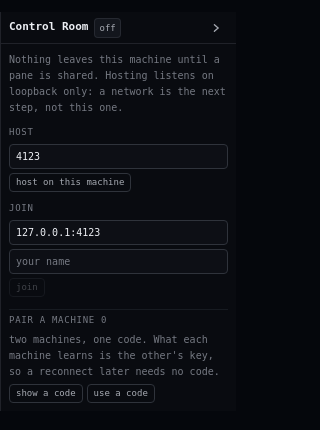
Test: pairing from the dock › shows the code and the address the other machine needs
Click the button "show a code" at [46, 393], box 9,384 -> 83,403
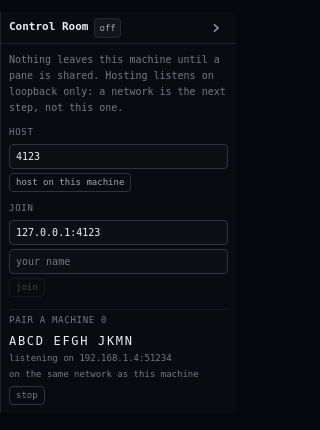
Expected: the text "ABCD EFGH JKMN" is shown, 9,334 -> 134,348
Expected: the text "listening on 192.168.1.4:51234" is shown, 9,352 -> 172,362
Expected: the text "on the same network as this machine" is shown, 9,366 -> 228,382
